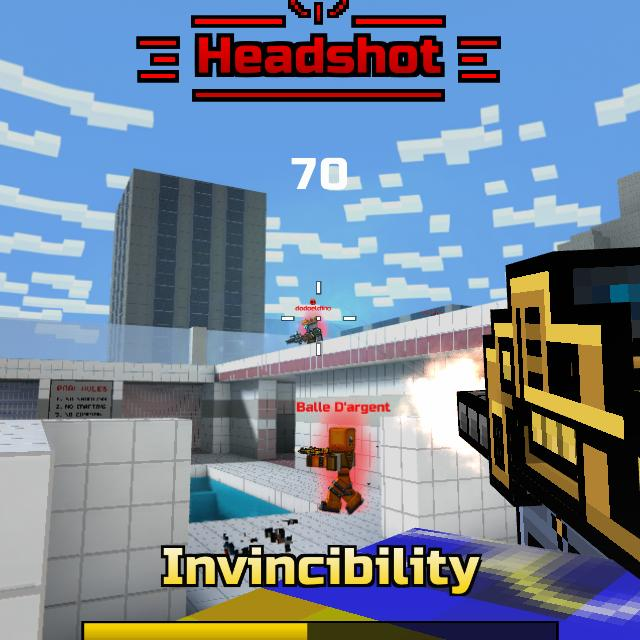Enemy: (310, 425, 366, 515), (299, 315, 323, 345)
